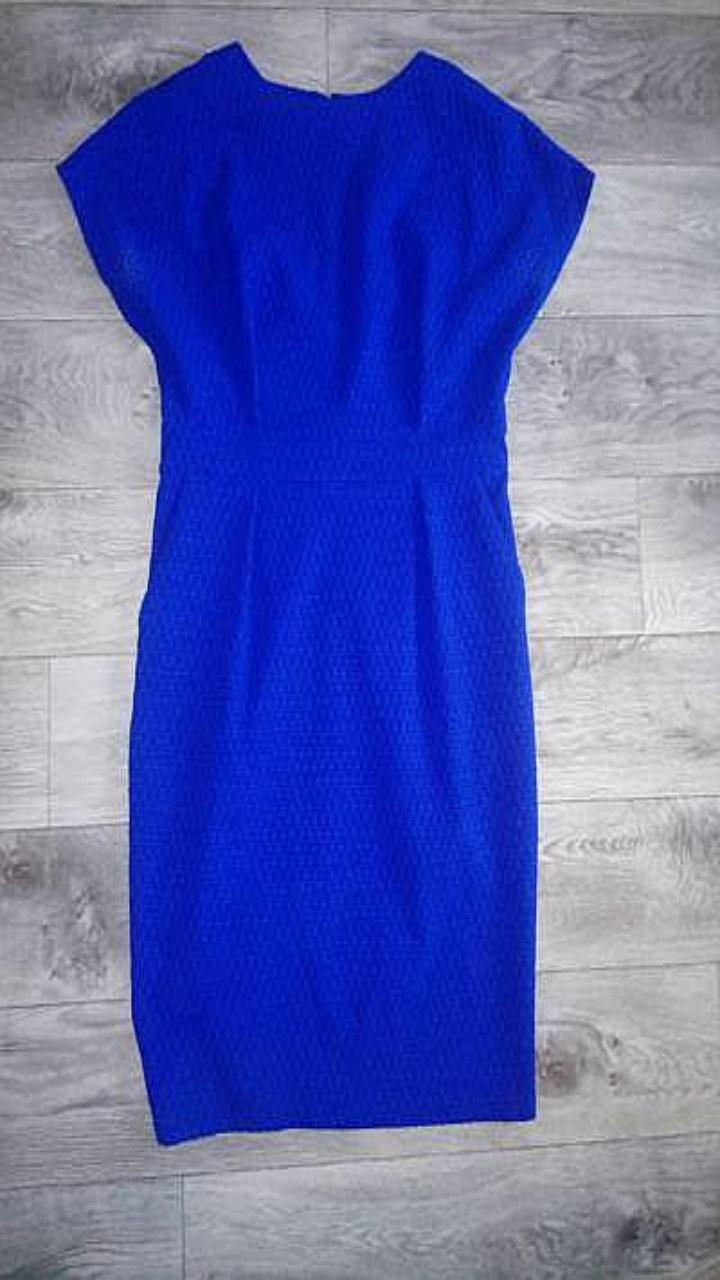Dresses: (57, 41, 594, 1143)
